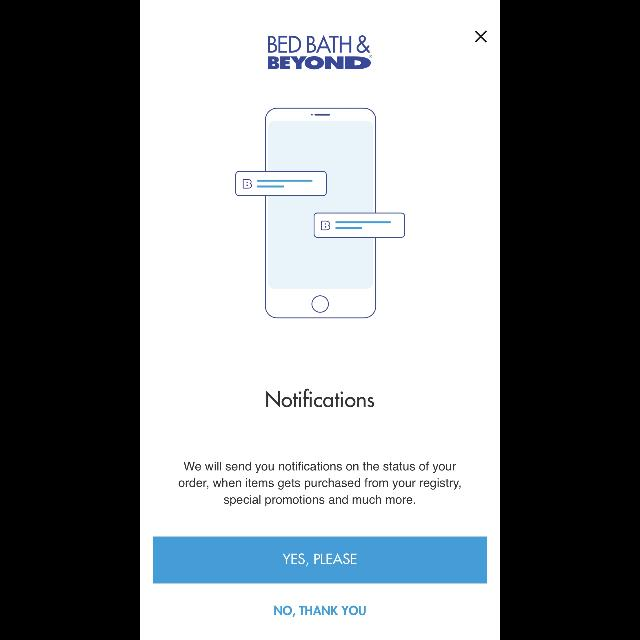icon: (475, 31, 487, 43)
image: (236, 108, 404, 318)
text: (179, 462, 461, 506), (268, 36, 372, 70), (266, 388, 374, 408), (274, 605, 366, 617)
textbutton: (154, 536, 486, 584)
